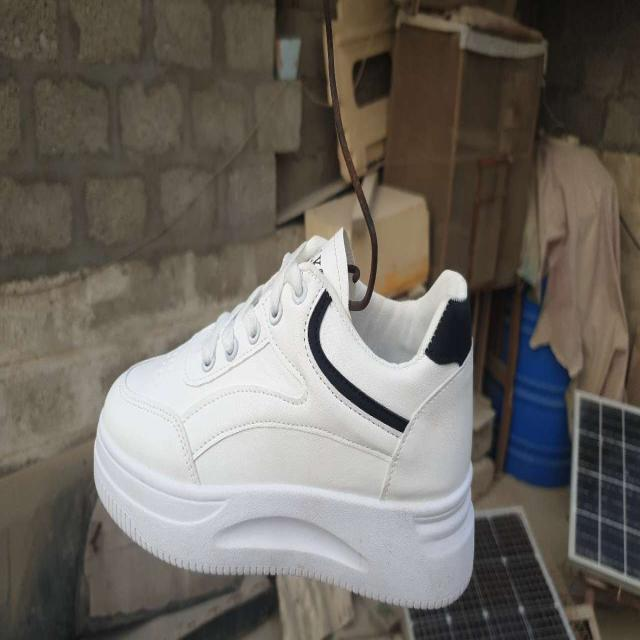shoes: (92, 225, 476, 611)
